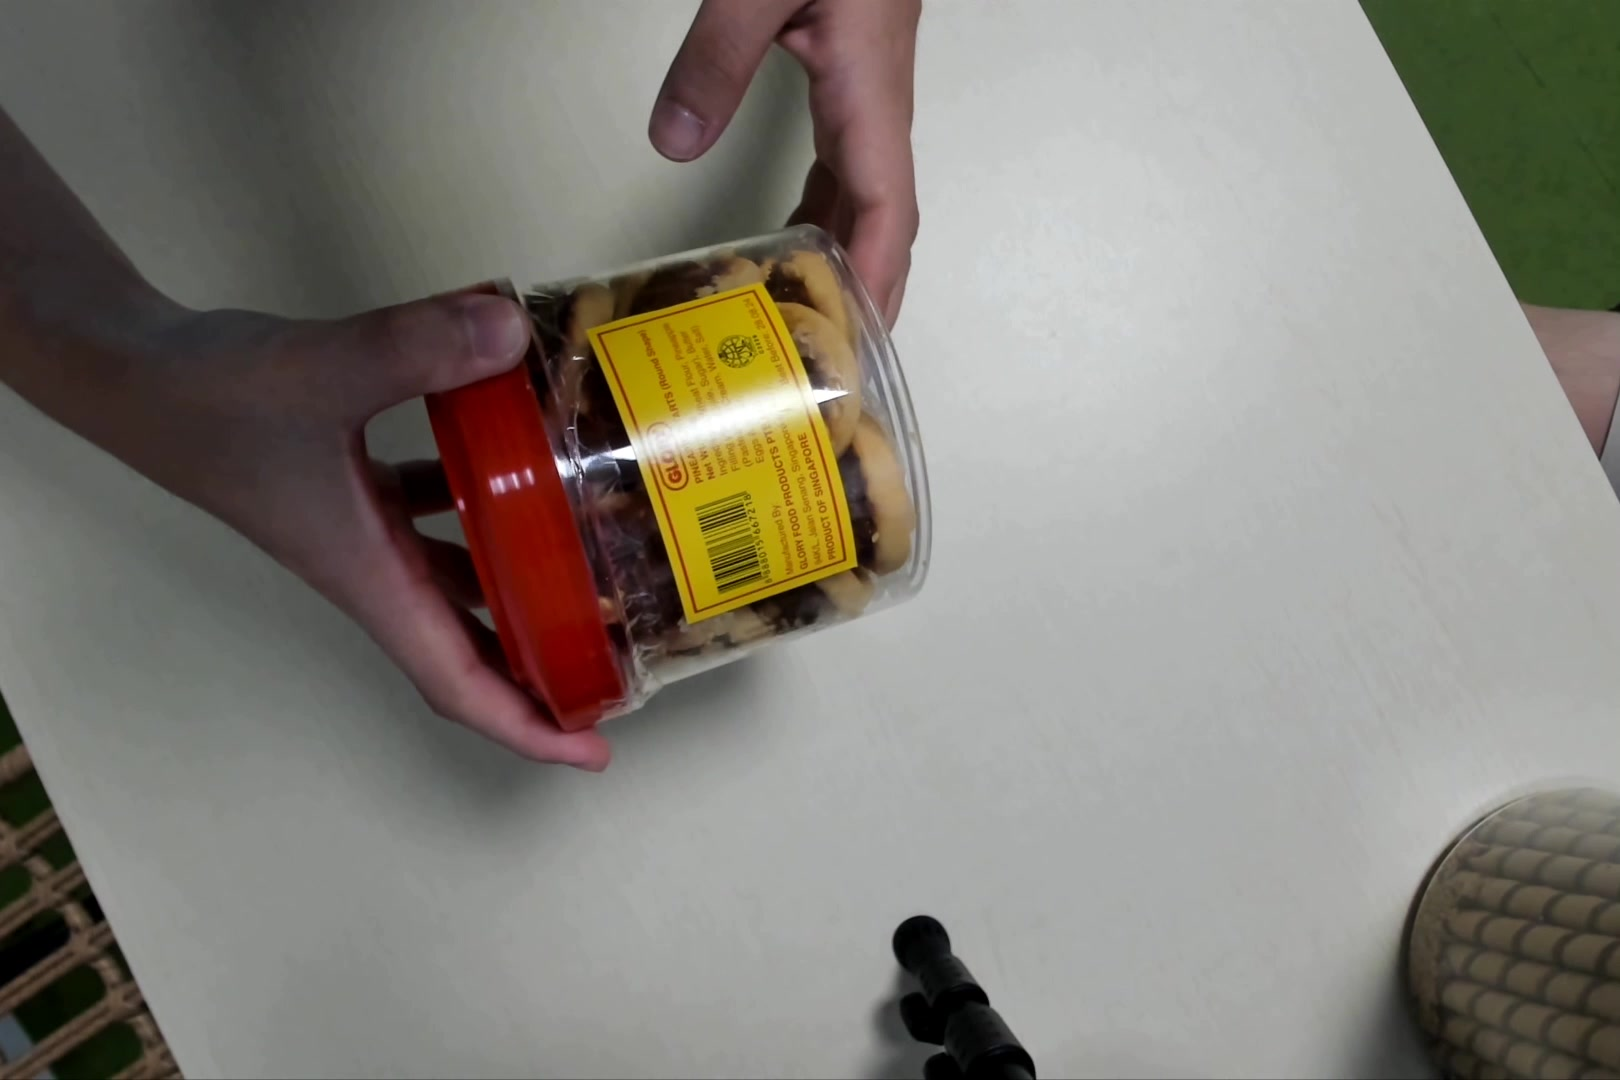BiscuitsCrackersCookies_400-499g_Halal_NonHealthy: (432, 228, 939, 740)
